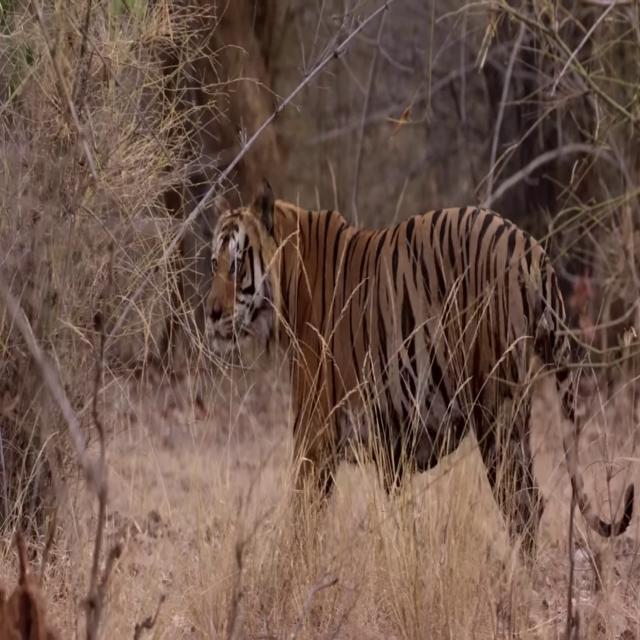tiger: (205, 172, 634, 562)
